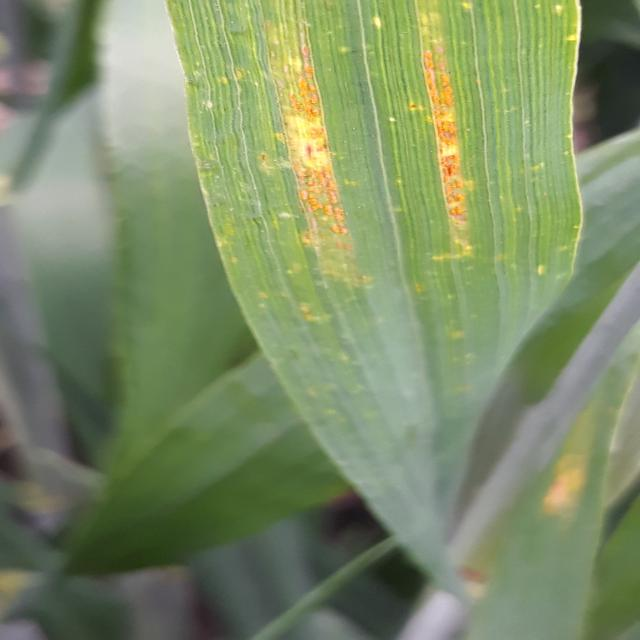yellow_rust: (157, 2, 634, 346), (512, 362, 640, 567)
